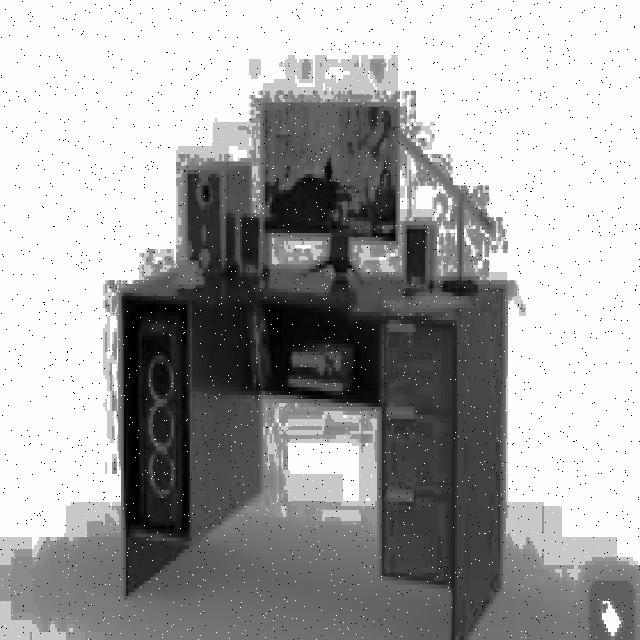table: (119, 260, 508, 640)
